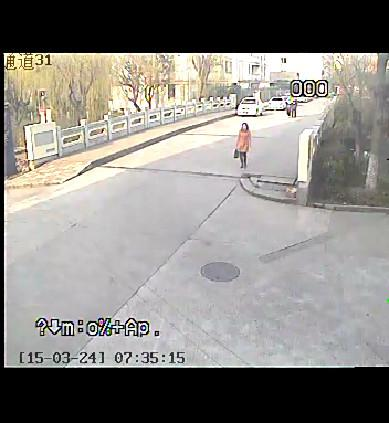person: (227, 119, 255, 170)
